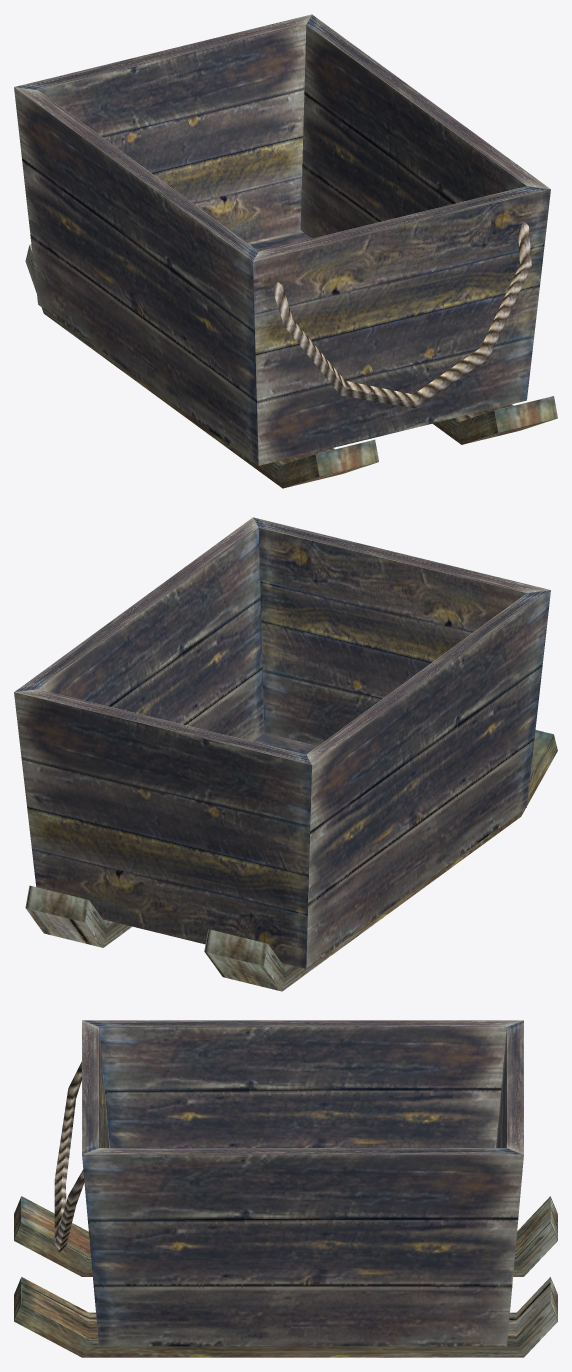
The model's file is m_vagon1.glb.
3 views of the same model, one above another, from view 1: azimuth 30°, elevation 25°; view 2: azimuth 150°, elevation 25°; view 3: azimuth 270°, elevation 25° (orthographic). The views are drawn at different scales.
Visible parts, largest first — view 1: m_vagon1; view 2: m_vagon1; view 3: m_vagon1.
Boxes of the visible parts, x1=… form: m_vagon1: x1=14, y1=14, x2=557, y2=488; m_vagon1: x1=14, y1=517, x2=557, y2=991; m_vagon1: x1=14, y1=1020, x2=557, y2=1357.
Size of the model in its own units: 1.2 by 0.9001 by 2.05.
Materials: 3 (3 with a texture image).
